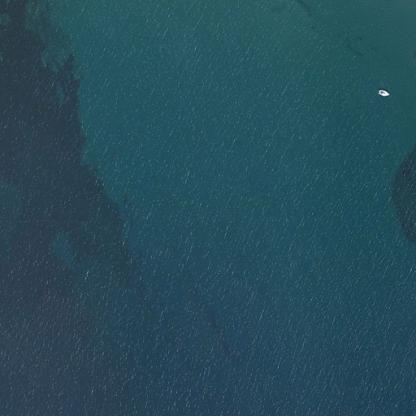ship: (366, 80, 397, 102)
